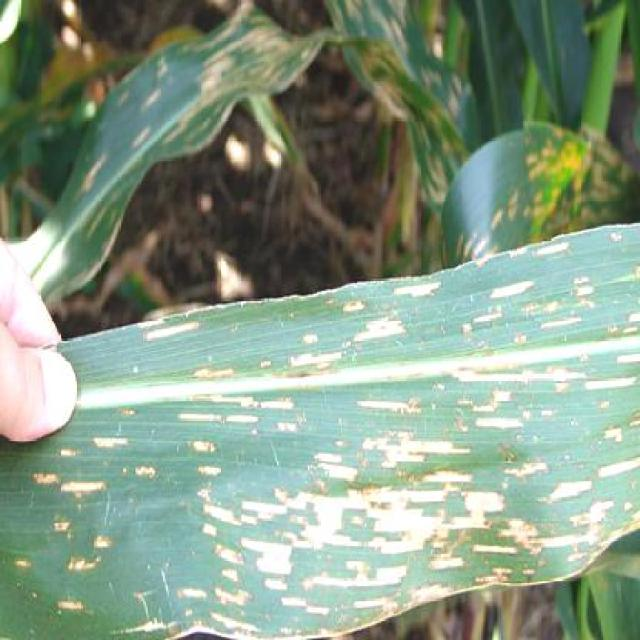Corn_Grey_Leaf_Spot: (103, 217, 640, 640)
